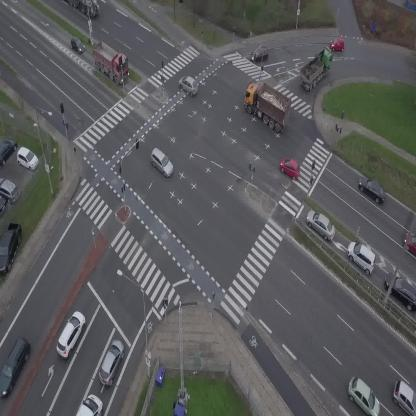car: (0, 336, 35, 400), (340, 373, 388, 416), (51, 308, 90, 359), (95, 337, 129, 388), (341, 237, 383, 277), (301, 205, 341, 244), (354, 173, 391, 206), (145, 147, 178, 179), (276, 154, 305, 181), (176, 72, 202, 97), (66, 34, 87, 57), (250, 46, 269, 61), (404, 233, 416, 254), (330, 37, 344, 51)
lorry: (235, 76, 299, 134), (83, 36, 138, 87), (293, 45, 342, 93), (76, 394, 103, 416), (67, 0, 99, 18)
